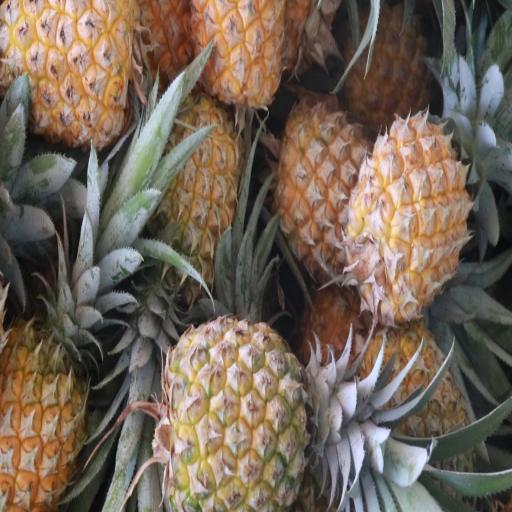------------------------------: (160, 320, 322, 512), (359, 329, 473, 493), (276, 102, 370, 283)
Pineapple - v8 v1: (347, 118, 467, 318), (0, 0, 131, 148), (0, 332, 99, 512), (154, 96, 238, 298), (343, 1, 432, 129), (197, 2, 286, 106)
